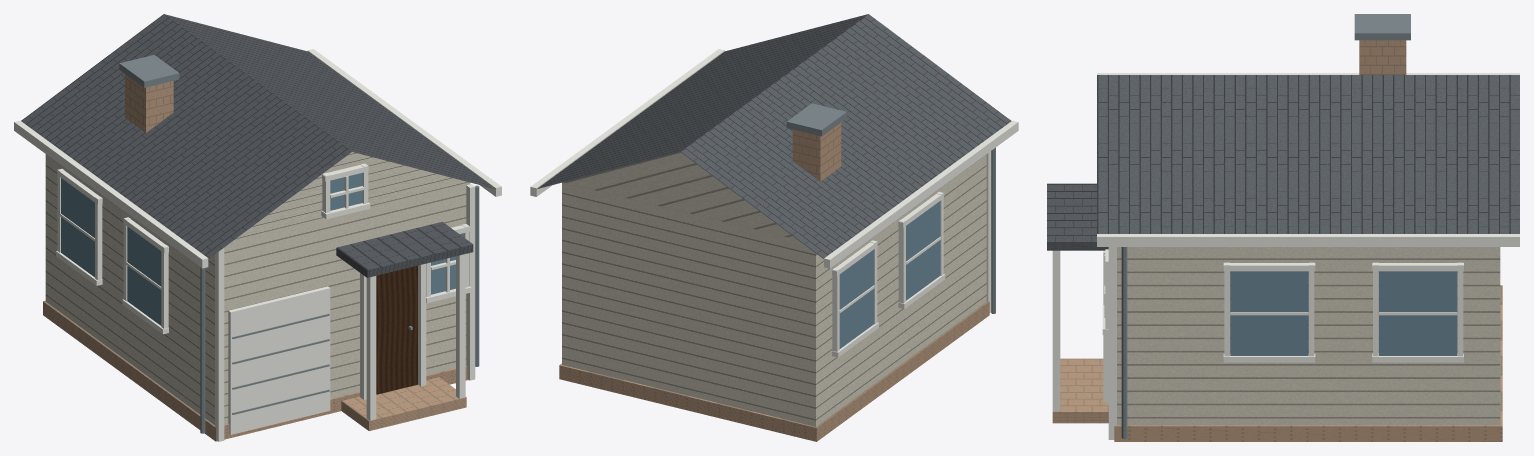
The model's file is house.glb.
3 renders of one model, left to right at view 1: azimuth 30°, elevation 25°; view 2: azimuth 150°, elevation 25°; view 3: azimuth 270°, elevation 25°, orthographic. The views are drawn at different scales.
Visible parts, largest first — view 1: Original suburban house; view 2: Original suburban house; view 3: Original suburban house.
Boxes of the visible parts, <box> form: Original suburban house: <box>14,14,501,441</box>; Original suburban house: <box>530,14,1018,441</box>; Original suburban house: <box>1047,14,1519,441</box>.
Size of the model in its own units: 4.96 by 4.32 by 6.04.
Materials: 7 (4 with a texture image).
